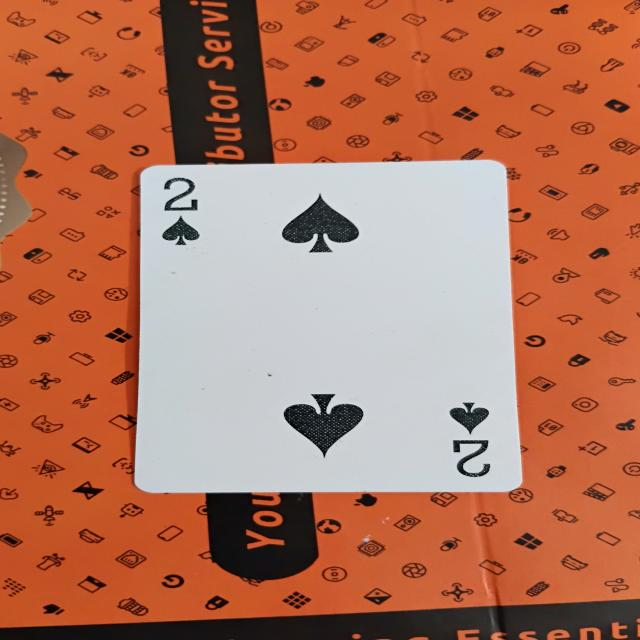2S: (139, 168, 516, 496)
